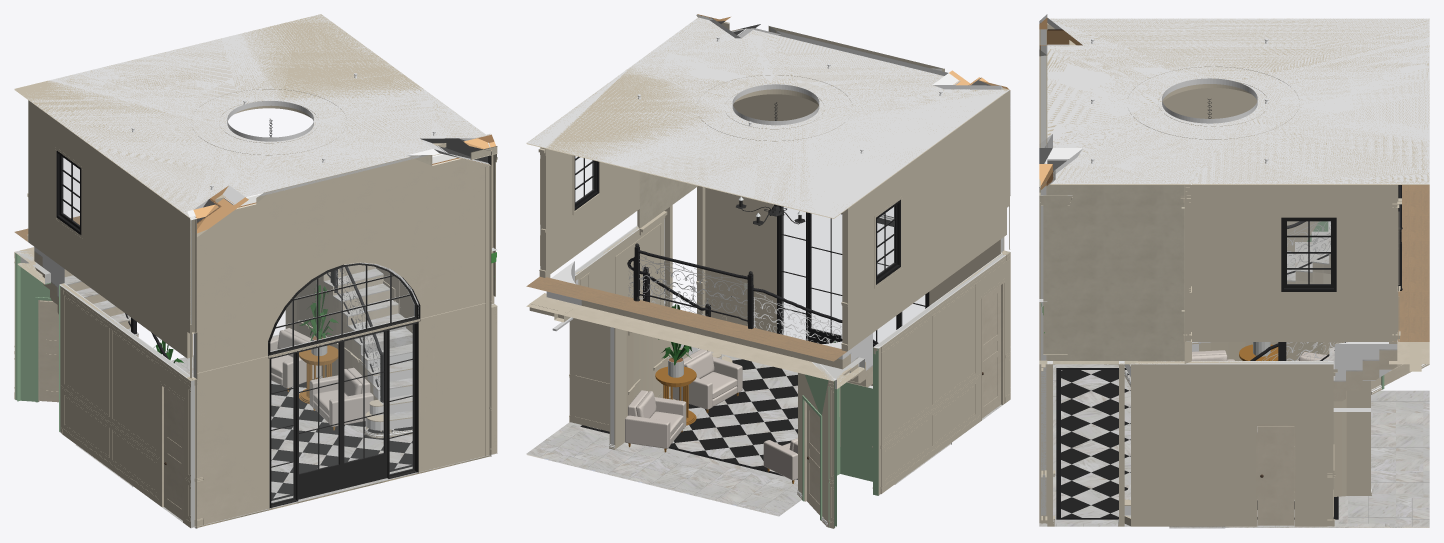
Rendered from entry-c53c87f77d8d.glb.
3 renders of one model, left to right at view 1: azimuth 30°, elevation 25°; view 2: azimuth 150°, elevation 25°; view 3: azimuth 270°, elevation 25°, orthographic. The views are drawn at different scales.
Parts seen in each view (by area): view 1: entry-9d91b47435c6fb33, entry-4edf3a9420c06709, entry-e8793759323e04f0, entry-698abdfdc6fb970d, entry-9ca48b730e5de4b2, entry-746250f96522f643, entry-85f0fd939e0fcc78, entry-8d5f500af8e4c699, entry-785988ccf932ddd5, entry-c4ac463b6a960119, entry-969fb0f33943ba89, entry-a5eabba2ad6474eb (+18 smaller); view 2: entry-9d91b47435c6fb33, entry-746250f96522f643, entry-e8793759323e04f0, entry-85f0fd939e0fcc78, entry-2575515a05775d9e, entry-d5a4a1b5d3594c04, entry-698abdfdc6fb970d, entry-ba376bd68a22f7f3, entry-c4ac463b6a960119, entry-c51ecd664a3b22a3, entry-8b5649904563319a, entry-6a051330000fbca1 (+28 smaller); view 3: entry-9d91b47435c6fb33, entry-6a051330000fbca1, entry-c51ecd664a3b22a3, entry-e8793759323e04f0, entry-62353aa10fc57f23, entry-c4ac463b6a960119, entry-ba376bd68a22f7f3, entry-2575515a05775d9e, entry-20932135983111ad, entry-489e9ad801b4b62e, entry-80d276f58a4dc5cb, entry-224035c89a69c041 (+19 smaller).
Boxes of the visible parts, x1,y1,x2,y2 form: entry-9d91b47435c6fb33: (14, 14, 485, 218); entry-4edf3a9420c06709: (195, 150, 491, 372); entry-e8793759323e04f0: (14, 14, 483, 217); entry-698abdfdc6fb970d: (269, 322, 418, 508); entry-9ca48b730e5de4b2: (195, 302, 490, 526); entry-746250f96522f643: (28, 100, 192, 358); entry-85f0fd939e0fcc78: (60, 283, 192, 525); entry-8d5f500af8e4c699: (268, 262, 420, 358); entry-785988ccf932ddd5: (196, 150, 491, 373); entry-c4ac463b6a960119: (271, 379, 412, 498); entry-969fb0f33943ba89: (196, 302, 490, 526); entry-a5eabba2ad6474eb: (14, 251, 50, 401); entry-9d91b47435c6fb33: (526, 17, 1008, 218); entry-746250f96522f643: (842, 92, 1006, 350); entry-e8793759323e04f0: (528, 18, 1008, 210); entry-85f0fd939e0fcc78: (873, 253, 1006, 494); entry-2575515a05775d9e: (526, 275, 851, 381); entry-d5a4a1b5d3594c04: (706, 188, 1007, 389); entry-698abdfdc6fb970d: (777, 205, 929, 346); entry-ba376bd68a22f7f3: (540, 428, 800, 515); entry-c4ac463b6a960119: (586, 354, 797, 472); entry-c51ecd664a3b22a3: (540, 147, 639, 277); entry-8b5649904563319a: (570, 281, 609, 431); entry-6a051330000fbca1: (569, 219, 663, 414); entry-9d91b47435c6fb33: (1041, 18, 1429, 184); entry-6a051330000fbca1: (1131, 361, 1333, 526); entry-c51ecd664a3b22a3: (1192, 184, 1398, 341); entry-e8793759323e04f0: (1042, 14, 1429, 183); entry-62353aa10fc57f23: (1047, 184, 1191, 364); entry-c4ac463b6a960119: (1061, 370, 1333, 517); entry-ba376bd68a22f7f3: (1348, 390, 1429, 523); entry-2575515a05775d9e: (1389, 185, 1429, 364); entry-20932135983111ad: (1281, 217, 1336, 291); entry-489e9ad801b4b62e: (1043, 195, 1067, 354); entry-80d276f58a4dc5cb: (1257, 426, 1294, 525); entry-224035c89a69c041: (1346, 380, 1370, 495).
Bounding box in the file's own units: 6.54 × 6.44 × 6.51.
46 materials, 9 textured.
